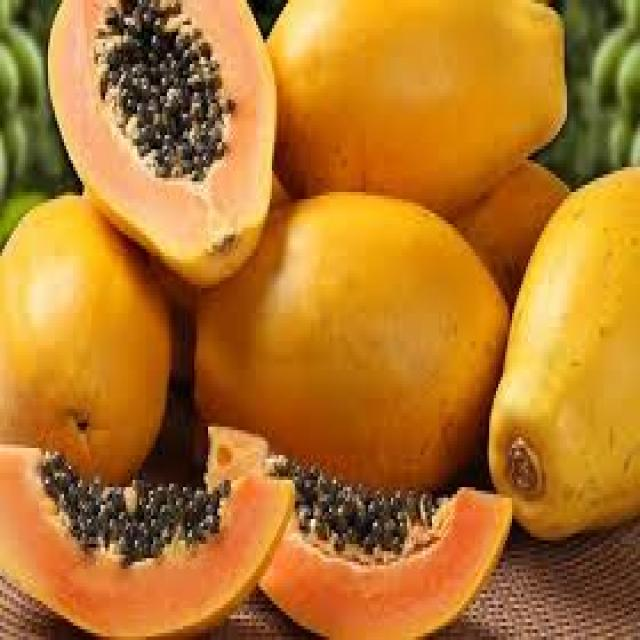organic waste: (180, 192, 510, 498), (44, 0, 274, 292), (206, 423, 510, 637), (263, 0, 564, 206), (484, 164, 638, 544), (0, 441, 293, 636), (0, 192, 171, 490), (452, 156, 572, 313), (0, 0, 46, 196), (590, 0, 638, 167)
